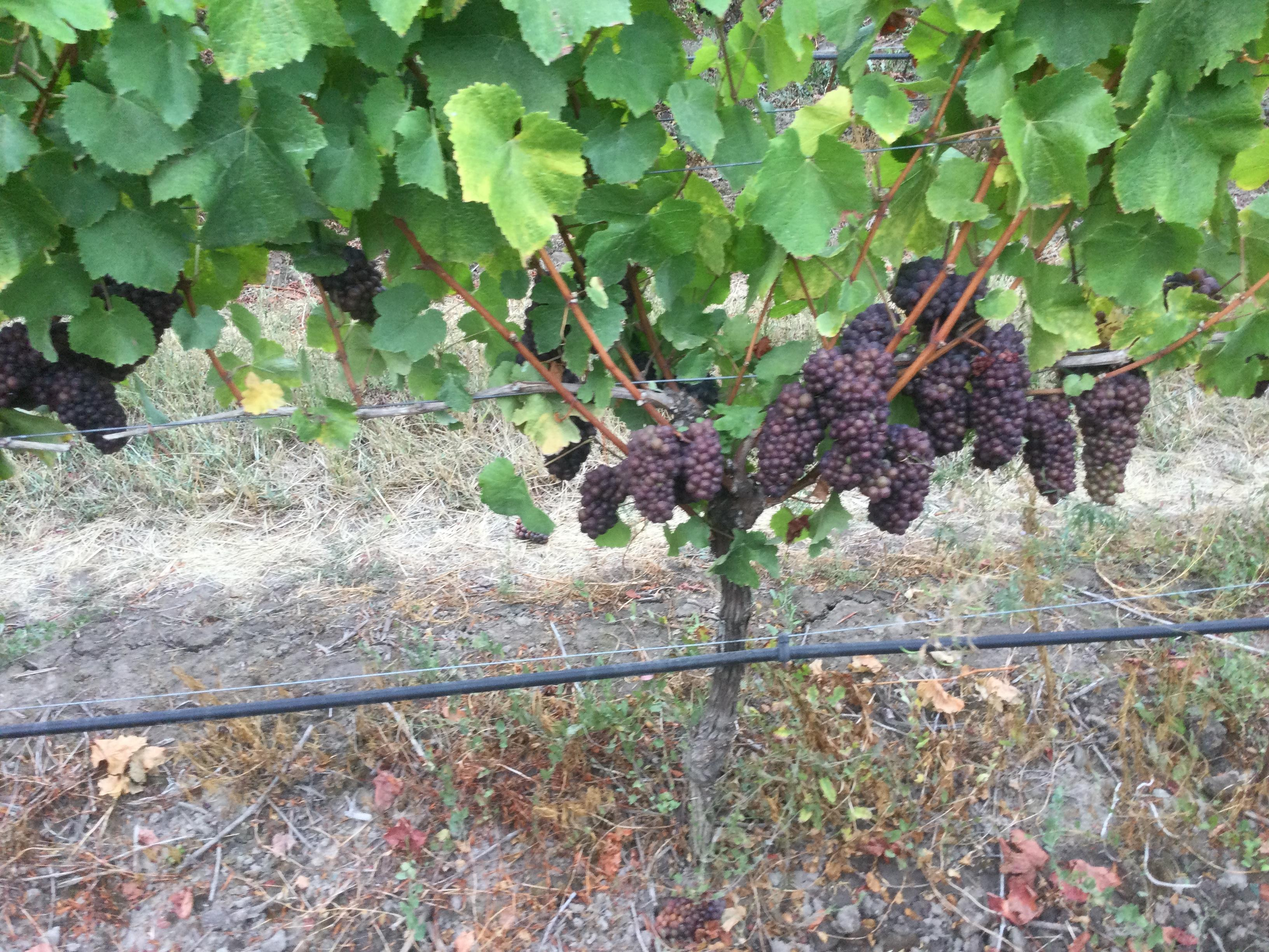leaf: (150, 78, 325, 247), (445, 84, 584, 254), (1113, 72, 1263, 226), (999, 68, 1122, 205), (1116, 0, 1265, 105), (748, 131, 870, 256), (416, 20, 566, 117), (1077, 211, 1202, 306), (59, 82, 186, 174), (103, 10, 199, 128), (206, 0, 348, 79), (585, 12, 685, 117), (75, 201, 191, 291), (584, 199, 701, 284), (1013, 0, 1140, 68), (501, 0, 630, 63), (1024, 265, 1099, 368), (1111, 286, 1219, 357), (874, 159, 946, 260), (27, 150, 119, 228), (732, 7, 814, 88), (0, 175, 58, 288), (965, 30, 1038, 115), (339, 0, 421, 75), (582, 109, 666, 182), (1196, 312, 1268, 397), (0, 254, 91, 321), (311, 124, 382, 209), (370, 284, 447, 362), (69, 297, 156, 366), (477, 457, 554, 534), (184, 246, 268, 309), (714, 103, 769, 190), (395, 108, 447, 198), (666, 79, 724, 159), (3, 0, 110, 42), (790, 86, 852, 156), (925, 156, 989, 221), (854, 72, 911, 144), (512, 394, 580, 454), (407, 354, 472, 412), (711, 530, 778, 586), (903, 5, 961, 68), (363, 76, 408, 154), (291, 397, 359, 448), (657, 302, 725, 350), (816, 0, 874, 49), (808, 492, 851, 557), (754, 338, 818, 381), (0, 112, 39, 182), (1238, 195, 1268, 278), (781, 257, 836, 301), (172, 304, 224, 350), (1230, 128, 1268, 190), (948, 0, 1018, 31), (1150, 335, 1207, 373), (369, 0, 425, 37), (663, 514, 710, 556), (780, 0, 819, 50), (713, 404, 764, 438), (576, 366, 615, 410), (306, 307, 337, 352), (594, 521, 631, 547), (697, 0, 730, 17), (855, 80, 869, 115), (1257, 288, 1268, 303), (736, 54, 748, 63), (586, 188, 598, 196), (900, 93, 906, 103), (762, 136, 765, 150), (799, 108, 804, 116), (728, 35, 731, 47), (632, 192, 636, 200), (995, 31, 1000, 37), (629, 205, 639, 208), (904, 107, 906, 121), (471, 26, 478, 30), (970, 102, 974, 108), (669, 296, 673, 301), (983, 54, 986, 60), (878, 130, 882, 134), (977, 64, 981, 68), (623, 189, 631, 191), (975, 109, 980, 112), (886, 139, 892, 141), (881, 91, 885, 94), (873, 74, 879, 76), (740, 93, 743, 97), (1036, 908, 1038, 914), (864, 77, 869, 79), (993, 39, 996, 42), (579, 207, 581, 211), (729, 106, 736, 107), (860, 30, 862, 32), (1010, 919, 1013, 920), (992, 113, 994, 114), (1023, 67, 1025, 68), (1027, 63, 1028, 65), (874, 127, 875, 128), (495, 510, 496, 511), (319, 48, 320, 48), (792, 312, 795, 312), (465, 18, 465, 19), (1011, 149, 1011, 151)
